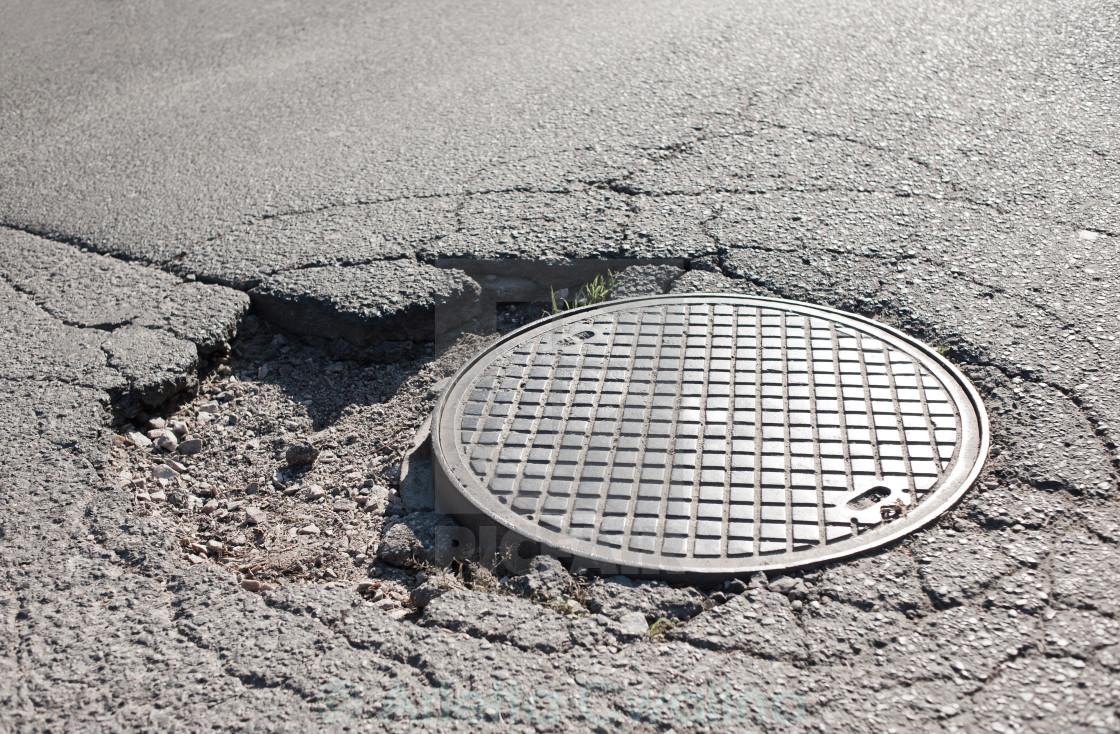open drainage-not overflowing-: (432, 294, 996, 577)
